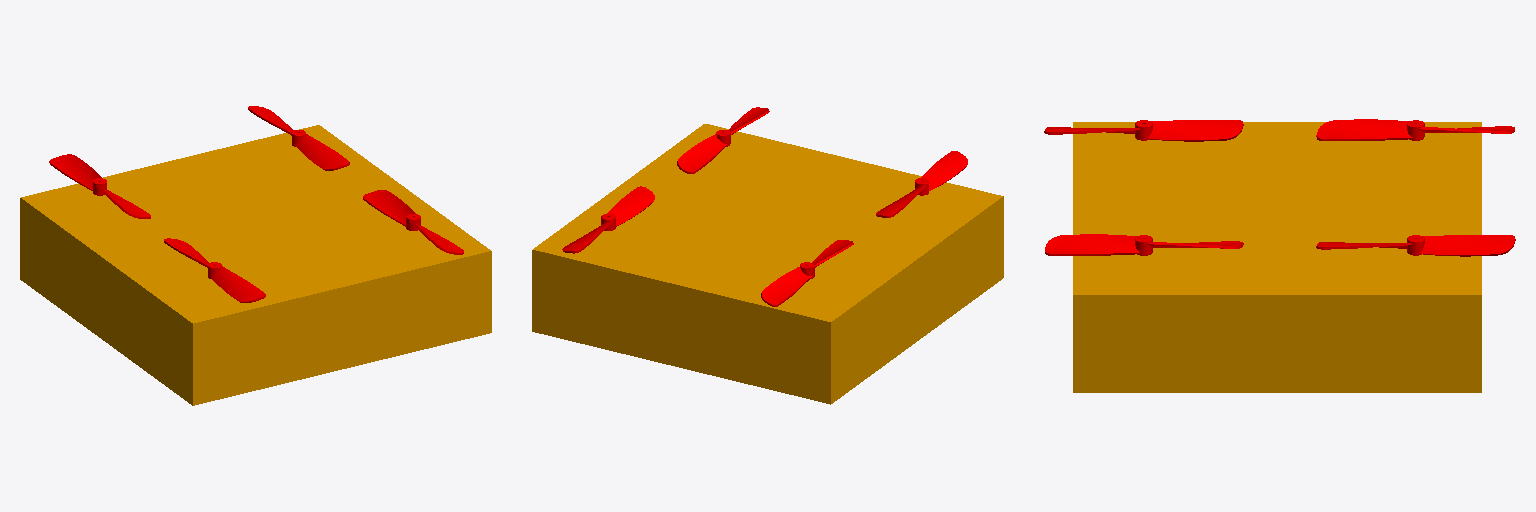
robot.urdf — crazyflie:
<?xml version="1.0"?>
<robot name="crazyflie">

  <!-- ===================================================== -->
  <!-- MATERIALS -->
  <!-- ===================================================== -->

  <material name="black">
    <color rgba="0.1 0.1 0.1 1.0"/>
  </material>

  <material name="red">
    <color rgba="1 0 0 1"/>
  </material>

  <material name="blue">
    <color rgba="0 0 1 1"/>
  </material>

  <material name="green">
    <color rgba="0 1 0 1"/>
  </material>

  <material name="yellow">
    <color rgba="1 1 0 1"/>
  </material>


  <!-- ===================================================== -->
  <!-- BASE LINK -->
  <!-- ===================================================== -->

  <link name="base_link">
   

    <!-- ================= VISUAL ================= -->

    <visual>
      
      <geometry>
        
         <box size="0.095 0.095 0.025"/>
         <material name="black"/>
      </geometry>
      
    </visual>

    <!-- ================= COLLISION ================= -->
    <!-- Approximate lightweight collision body -->

    <collision>
      <origin xyz="0 0 0" rpy="0 0 0"/>

      <geometry>
        <box size="0.095 0.095 0.02"/>
      </geometry>
    </collision>

    <!-- ================= INERTIAL ================= -->
    <!-- Converted from SolidWorks -->
    <!-- Values assumed transformed to ROS frame -->

    <inertial>

      <origin xyz="0 0 0" rpy="0 0 0"/>

      <!-- Crazyflie mass -->
      <mass value="0.026"/>

  <inertia
    ixx="1.114927e-05"
    ixy="4.825e-08"
    ixz="2.47e-09"
    iyy="1.131043e-05"
    iyz="7.65e-09"
    izz="2.155048e-05"/>
</inertial>

  </link>


  <!-- ===================================================== -->
  <!-- FRONT LEFT MOTOR : CCW -->
  <!-- ===================================================== -->

  <link name="propeller_ccw_1">

    <visual>
      <origin xyz="-0.003 -0.02314 0.005" rpy="0 0 0"/>

      <geometry>
        <mesh filename="package://crazyflie_description/meshes/newwing_ccw.stl"
              scale="0.001 0.001 0.001"/>
      </geometry>

      <material name="red"/>
    </visual>

    <collision>
      <origin xyz="0 0 0.005" rpy="0 0 0"/>

      <geometry>
        <cylinder radius="0.023" length="0.004"/>
      </geometry>
    </collision>

    <inertial>
      <origin xyz="0 0 0"/>
      <mass value="0.0005"/>

      <inertia
        ixx="3e-7"
        ixy="0"
        ixz="0"
        iyy="4e-7"
        iyz="0"
        izz="7e-7"/>
    </inertial>

  </link>

  <joint name="joint_propeller_ccw_1" type="continuous">

    <parent link="base_link"/>
    <child link="propeller_ccw_1"/>

    <origin xyz="0.0316 0.0316 0.0113"
            rpy="0 0 0"/>

    <axis xyz="0 0 1"/>

  </joint>


  <!-- ===================================================== -->
  <!-- FRONT RIGHT MOTOR : CW -->
  <!-- ===================================================== -->

  <link name="propeller_cw_2">

    <visual>
      <origin xyz="-0.003 -0.02314 0.005" rpy="0 0 0"/>

      <geometry>
        <mesh filename="package://crazyflie_description/meshes/newwing_cw.stl"
              scale="0.001 0.001 0.001"/>
      </geometry>

      <material name="red"/>
    </visual>

    <collision>
      <origin xyz="0 0 0.005" rpy="0 0 0"/>

      <geometry>
        <cylinder radius="0.023" length="0.004"/>
      </geometry>
    </collision>

    <inertial>
      <origin xyz="0 0 0"/>
      <mass value="0.0005"/>

      <inertia
        ixx="3e-7"
        ixy="0"
        ixz="0"
        iyy="4e-7"
        iyz="0"
        izz="7e-7"/>
    </inertial>

  </link>

  <joint name="joint_propeller_cw_2" type="continuous">

    <parent link="base_link"/>
    <child link="propeller_cw_2"/>

    <origin xyz="0.0316 -0.0316 0.0113"
            rpy="0 0 0"/>

    <axis xyz="0 0 1"/>

  </joint>


  <!-- ===================================================== -->
  <!-- REAR RIGHT MOTOR : CCW -->
  <!-- ===================================================== -->

  <link name="propeller_ccw_3">

    <visual>
      <origin xyz="-0.003 -0.02315 0.005" rpy="0 0 0"/>

      <geometry>
        <mesh filename="package://crazyflie_description/meshes/newwing_ccw.stl"
              scale="0.001 0.001 0.001"/>
      </geometry>

      <material name="red"/>
    </visual>

    <collision>
      <origin xyz="0 0 0.005" rpy="0 0 0"/>

      <geometry>
        <cylinder radius="0.023" length="0.004"/>
      </geometry>
    </collision>

    <inertial>
      <origin xyz="0 0 0"/>
      <mass value="0.0005"/>

      <inertia
        ixx="3e-7"
        ixy="0"
        ixz="0"
        iyy="4e-7"
        iyz="0"
        izz="7e-7"/>
    </inertial>

  </link>

  <joint name="joint_propeller_ccw_3" type="continuous">

    <parent link="base_link"/>
    <child link="propeller_ccw_3"/>

    <origin xyz="-0.0316 -0.0316 0.0113"
            rpy="0 0 0"/>

    <axis xyz="0 0 1"/>

  </joint>


  <!-- ===================================================== -->
  <!-- REAR LEFT MOTOR : CW -->
  <!-- ===================================================== -->

  <link name="propeller_cw_4">

   <visual>
      <origin xyz="-0.003 -0.02314 0.005" rpy="0 0 0"/>

      <geometry>
        <mesh filename="package://crazyflie_description/meshes/newwing_cw.stl"
              scale="0.001 0.001 0.001"/>
      </geometry>

      <material name="red"/>
    </visual>

    <collision>
      <origin xyz="0 0 0.005" rpy="0 0 0"/>

      <geometry>
        <cylinder radius="0.023" length="0.004"/>
      </geometry>
    </collision>

    <inertial>
      <origin xyz="0 0 0"/>
      <mass value="0.0005"/>

      <inertia
        ixx="3e-7"
        ixy="0"
        ixz="0"
        iyy="4e-7"
        iyz="0"
        izz="7e-7"/>
    </inertial>

  </link>


  <joint name="joint_propeller_cw_4" type="continuous">

    <parent link="base_link"/>
    <child link="propeller_cw_4"/>

    <origin xyz="-0.0316 0.0316 0.0113"
            rpy="0 0 0"/>

    <axis xyz="0 0 -1"/>

  </joint>


<!-- ===============imu sensor==================-->
   <link name="imu_link">
  <inertial>
    <mass value="0.01"/>
    <origin xyz="0 0 0"/>
    <inertia ixx="1e-9" ixy="0" ixz="0"
             iyy="1e-9" iyz="0"
             izz="1e-9"/>
  </inertial>
</link>

<joint name="imu_joint" type="fixed">
  <parent link="base_link"/>
  <child link="imu_link"/>
  <origin xyz="0 0 0"/>
</joint>




<gazebo reference="imu_link">
  <sensor name="imu_sensor" type="imu">
    <always_on>true</always_on>
    <update_rate>500</update_rate>
   
   <imu>
   <angular_velocity>
        <x>
          <noise type="gaussian">
            <mean>0.0</mean>
            <stddev>0.0002</stddev>
          </noise>
        </x>
        <y>
          <noise type="gaussian">
            <mean>0.0</mean>
            <stddev>0.0002</stddev>
          </noise>
        </y>
        <z>
          <noise type="gaussian">
            <mean>0.0</mean>
            <stddev>0.0002</stddev>
          </noise>
        </z>
      </angular_velocity>

      <linear_acceleration>
        <x>
          <noise type="gaussian">
            <mean>0.0</mean>
            <stddev>0.02</stddev>
          </noise>
        </x>
        <y>
          <noise type="gaussian">
            <mean>0.0</mean>
            <stddev>0.02</stddev>
          </noise>
        </y>
        <z>
          <noise type="gaussian">
            <mean>0.0</mean>
            <stddev>0.02</stddev>
          </noise>
        </z>
      </linear_acceleration>
    </imu>

    
  </sensor>


  <plugin
    filename="gz-sim-odometry-publisher-system"
    name="gz::sim::systems::OdometryPublisher">

    <odom_frame>odom</odom_frame>
    <robot_base_frame>base_link</robot_base_frame>

  </plugin>

<!--===============gps===============================-->

  <plugin
      filename="gz-sim-pose-publisher-system"
      name="gz::sim::systems::PosePublisher">

    <publish_link_pose>true</publish_link_pose>
    <publish_sensor_pose>true</publish_sensor_pose>
    <publish_collision_pose>true</publish_collision_pose>
    <publish_visual_pose>false</publish_visual_pose>
    <publish_nested_model_pose>true</publish_nested_model_pose>
    <use_pose_vector_msg>true</use_pose_vector_msg>
    <static_publisher>true</static_publisher>
    <static_update_frequency>1.0</static_update_frequency>

  </plugin>
</gazebo>




</robot>

--- Render facts (derived) ---
3 views of the same robot in one strip: view 1: azimuth 30°, elevation 25°; view 2: azimuth 150°, elevation 25°; view 3: azimuth 270°, elevation 25° (orthographic).
Model crazyflie with 6 links and 5 joints (4 continuous, 1 fixed), rooted at base_link, posed every joint at zero.
Visible links, largest first — view 1: base_link, propeller_cw_2, propeller_cw_4, propeller_ccw_1, propeller_ccw_3; view 2: base_link, propeller_cw_4, propeller_cw_2, propeller_ccw_1, propeller_ccw_3; view 3: base_link, propeller_cw_2, propeller_cw_4, propeller_ccw_3, propeller_ccw_1.
Link boxes in pixels (x1,y1,x2,y2): base_link: (20,125,491,405); propeller_cw_2: (363,190,463,254); propeller_cw_4: (49,154,150,218); propeller_ccw_1: (248,106,349,170); propeller_ccw_3: (164,238,265,302); base_link: (532,124,1003,404); propeller_cw_4: (761,240,853,306); propeller_cw_2: (677,107,769,173); propeller_ccw_1: (562,186,654,253); propeller_ccw_3: (876,151,967,217); base_link: (1073,122,1481,392); propeller_cw_2: (1045,234,1243,255); propeller_cw_4: (1316,119,1514,140); propeller_ccw_3: (1044,120,1243,141); propeller_ccw_1: (1316,235,1515,256).
Size in the robot's own frame: 0.095 by 0.1095 by 0.0324 metres.
Meshes: 2 distinct files referenced, 4 mesh visuals loaded (2 binary STL).
